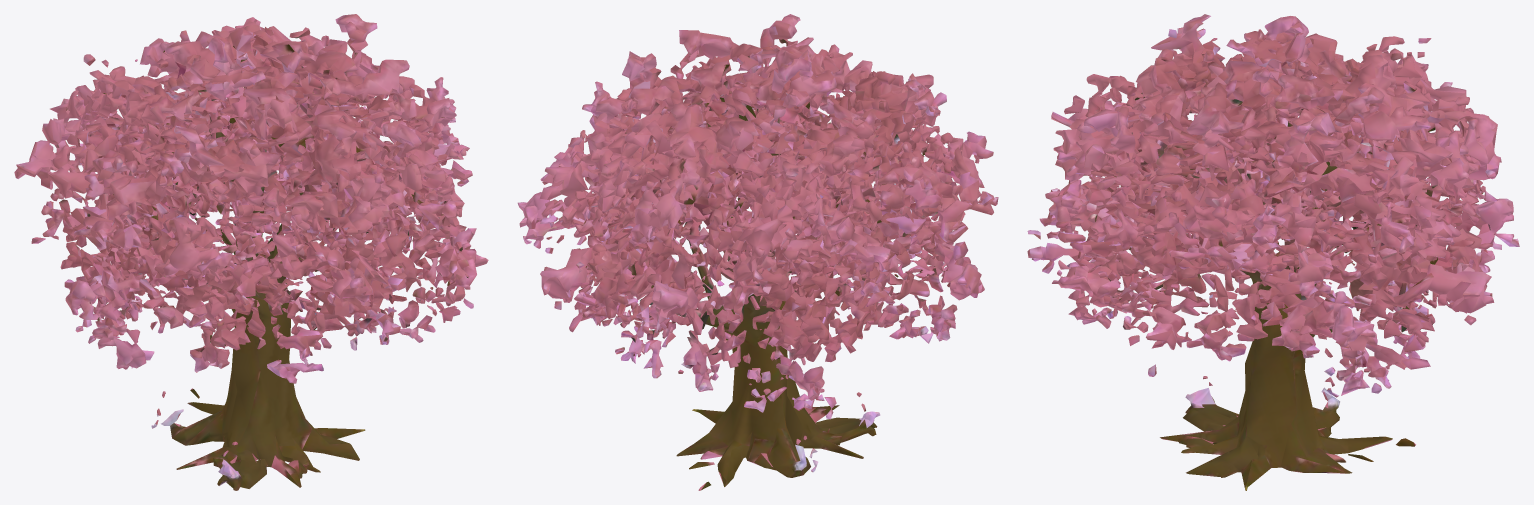
File: PRP_StatueTreeOfLife.glb
3 renders of one model, left to right at view 1: azimuth 30°, elevation 25°; view 2: azimuth 150°, elevation 25°; view 3: azimuth 270°, elevation 25°, orthographic. The views are drawn at different scales.
Visible parts, largest first — view 1: Object_5; view 2: Object_5; view 3: Object_5.
Part boxes in pixels (x1,y1,x2,y2): Object_5: (14, 14, 488, 490); Object_5: (517, 14, 998, 490); Object_5: (1027, 14, 1519, 490).
Size of the model in its own units: 1.91 by 1.77 by 1.9.
1 material, 1 textured.
